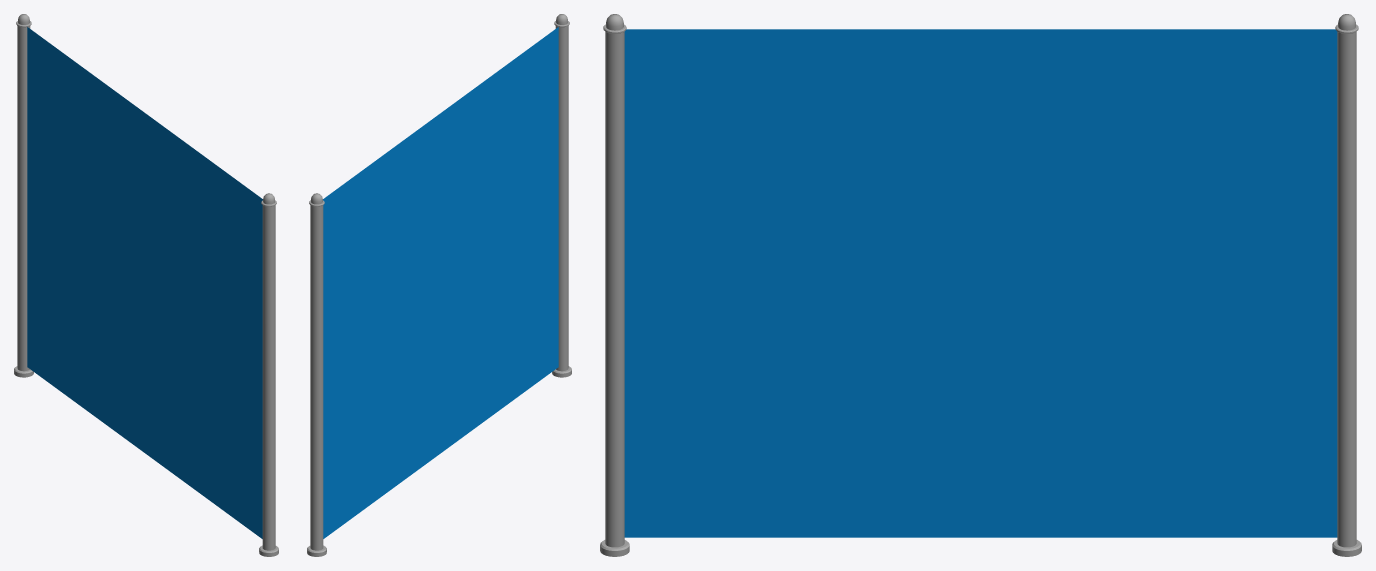
Rendered from double.fbx.
3 renders of one model, left to right at view 1: azimuth 30°, elevation 25°; view 2: azimuth 150°, elevation 25°; view 3: azimuth 270°, elevation 25°, orthographic. The views are drawn at different scales.
Parts seen in each view (by area): view 1: pCylinder4; view 2: pCylinder4; view 3: pCylinder4.
Part boxes in pixels (left/top/right/bottom): pCylinder4: left=14, top=14, right=278, bottom=556; pCylinder4: left=307, top=14, right=571, bottom=556; pCylinder4: left=600, top=14, right=1361, bottom=556.
Size of the model in its own units: 0.5686 by 11.3 by 14.57.
